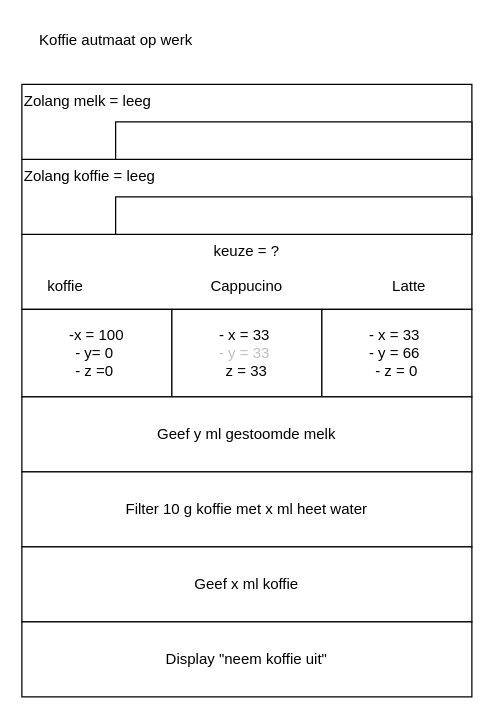
Image size: 494x719. Some labels were removed from this diagram. The shapes that lost their labels are listed below. From the top down, each one's centre as x and y in pixels, then its label:
the point at 293,140: Display "Vul melk bij"
the point at 293,215: Display "Vul koffie bij"
